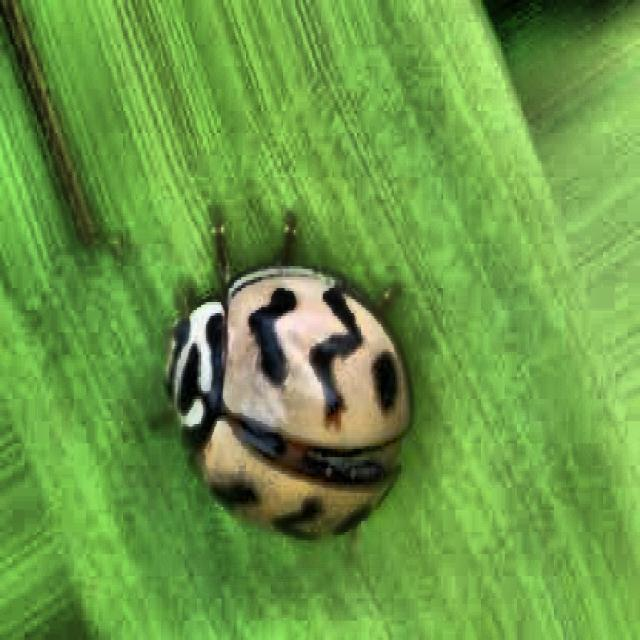Asian-Lady-beetle: (129, 193, 454, 602)
